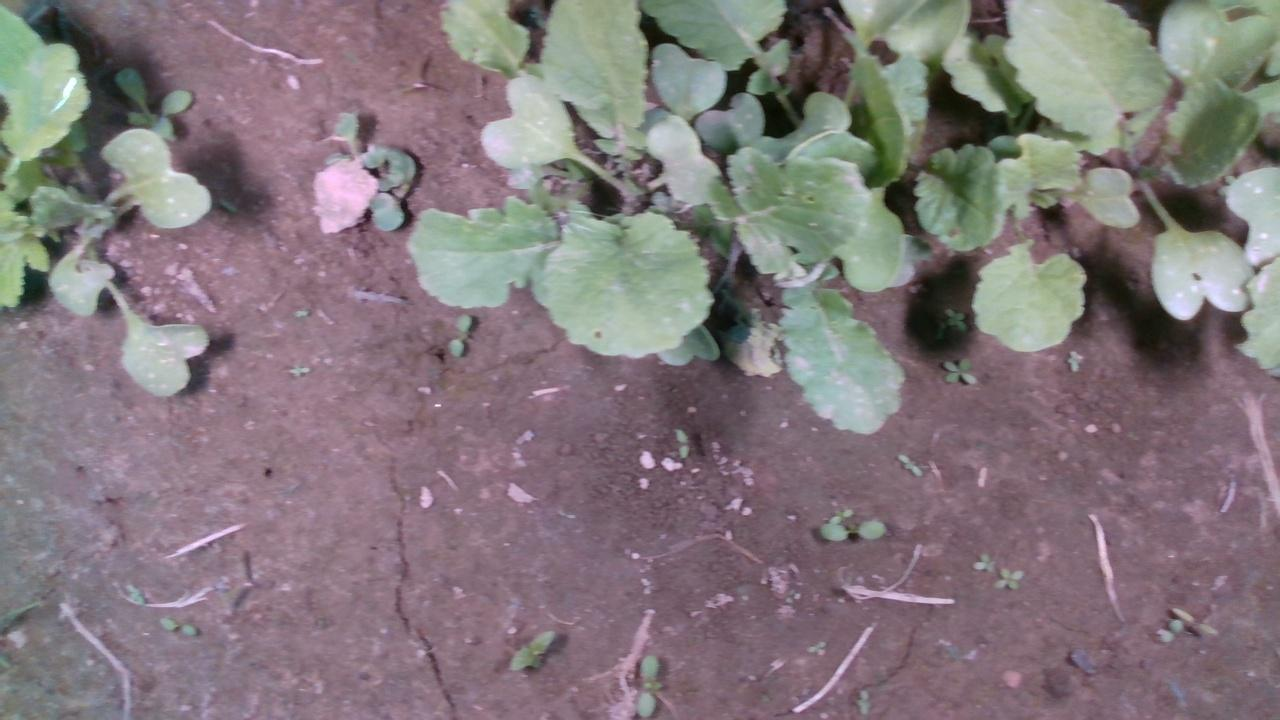weed: (939, 353, 978, 386), (444, 310, 471, 357)
